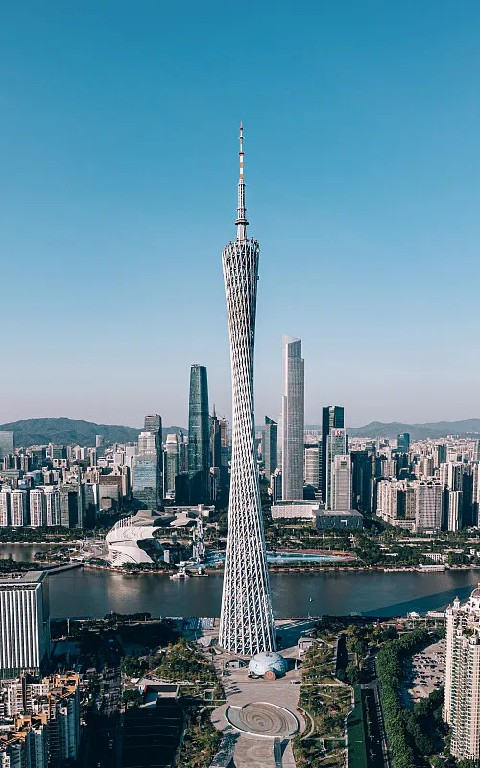Canton: (212, 118, 282, 659)
